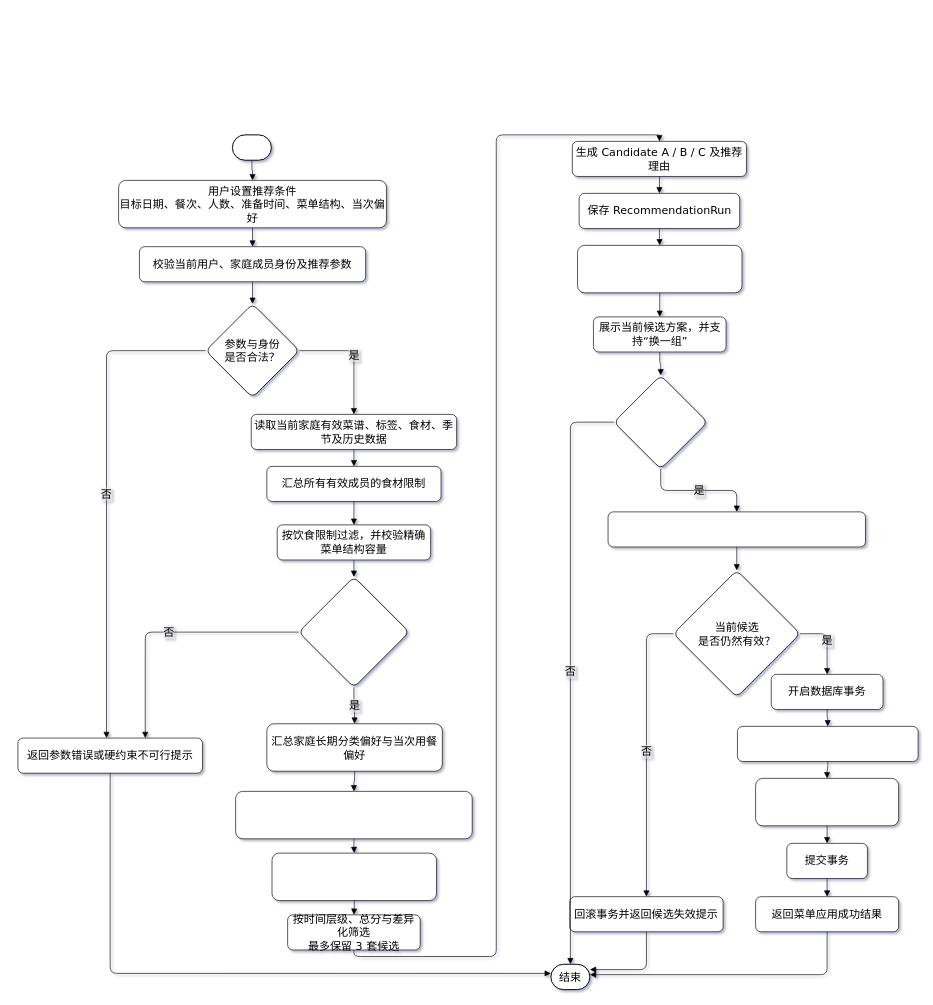
This 933x1005 diagram has some shape labels left out. The shapes that lost their labels are listed below. From the top down, each one's centre as x and y in pixels, then its label:
At [252,147]: "开始".
At [659,269]: "保存 RecommendationCandidate / CandidateItem 候选方案、菜谱、得分与推荐理由".
At [660,422]: "用户是否 应用当前候选？".
At [736,529]: "重新校验 Run、Candidate、成员、限制、结构及菜谱状态".
At [353,631]: "硬约束下是否可形成 完整菜单？".
At [827,743]: "按日期与餐次获取或创建 Menu".
At [353,815]: "生成完整菜单候选并计算多因素评分 偏好、营养、季节、多样性、近期重复".
At [827,802]: "加入当前 Candidate 的 MenuItem 已存在菜谱自动跳过".
At [353,876]: "计算整桌预计准备时间 时间内 Tier 1 / 超时 Tier 2".
